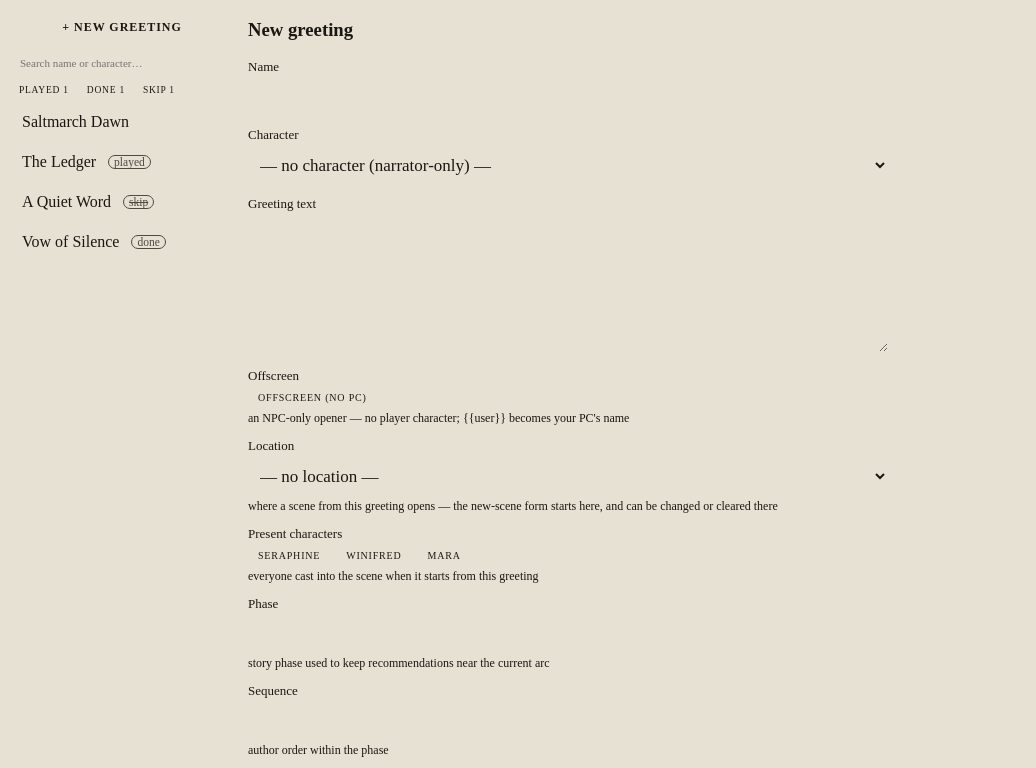
Test: the status line says nothing until both lists have loaded
Check: the link "Saltmarch Dawn" is shown, box [22,113,129,130]
In the search field named "Search greetings": (122, 63) [12,51,232,75], type "zzz"
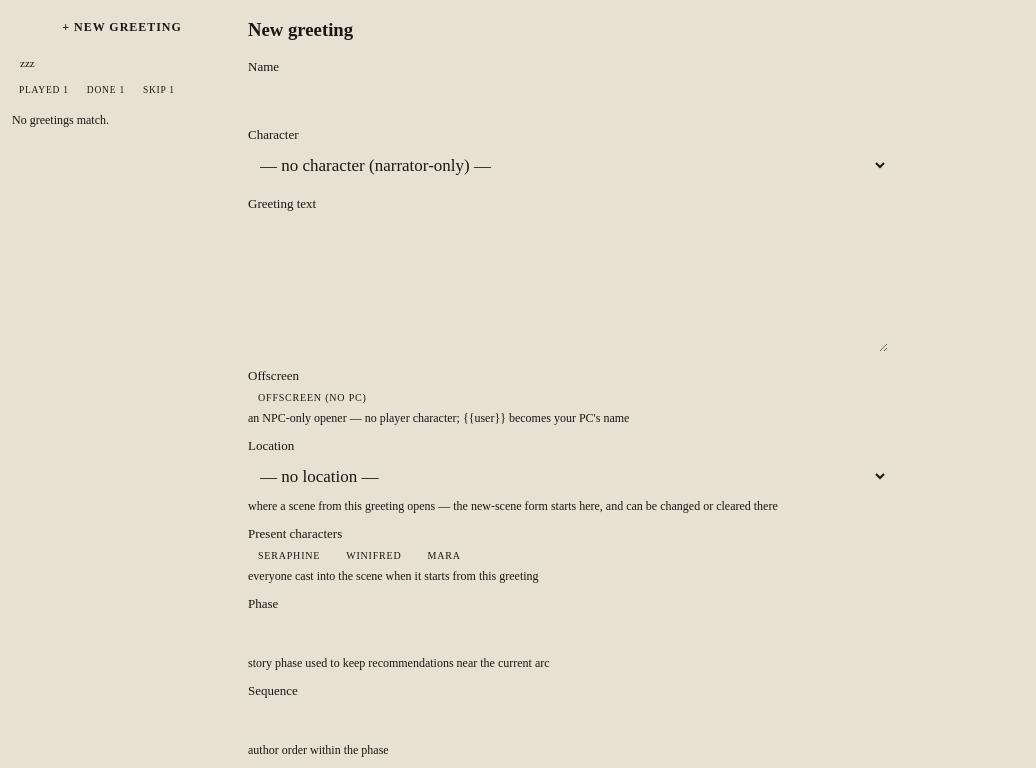
Check: the message reads "No greetings match.", box [12,113,109,127]
